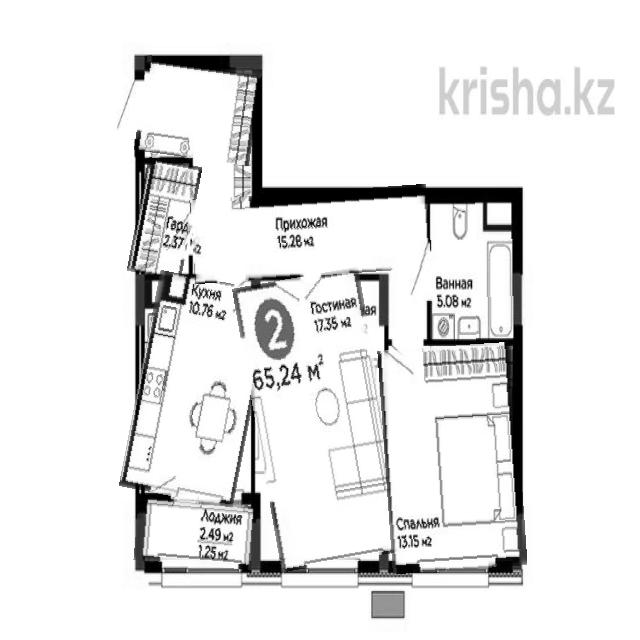balcony: (135, 499, 256, 568)
bathroom: (430, 194, 520, 342)
hallway: (191, 188, 430, 280), (137, 59, 259, 163)
kitchen: (129, 274, 265, 503)
living_room: (244, 272, 396, 568), (381, 344, 524, 572)
other: (132, 159, 197, 279)
